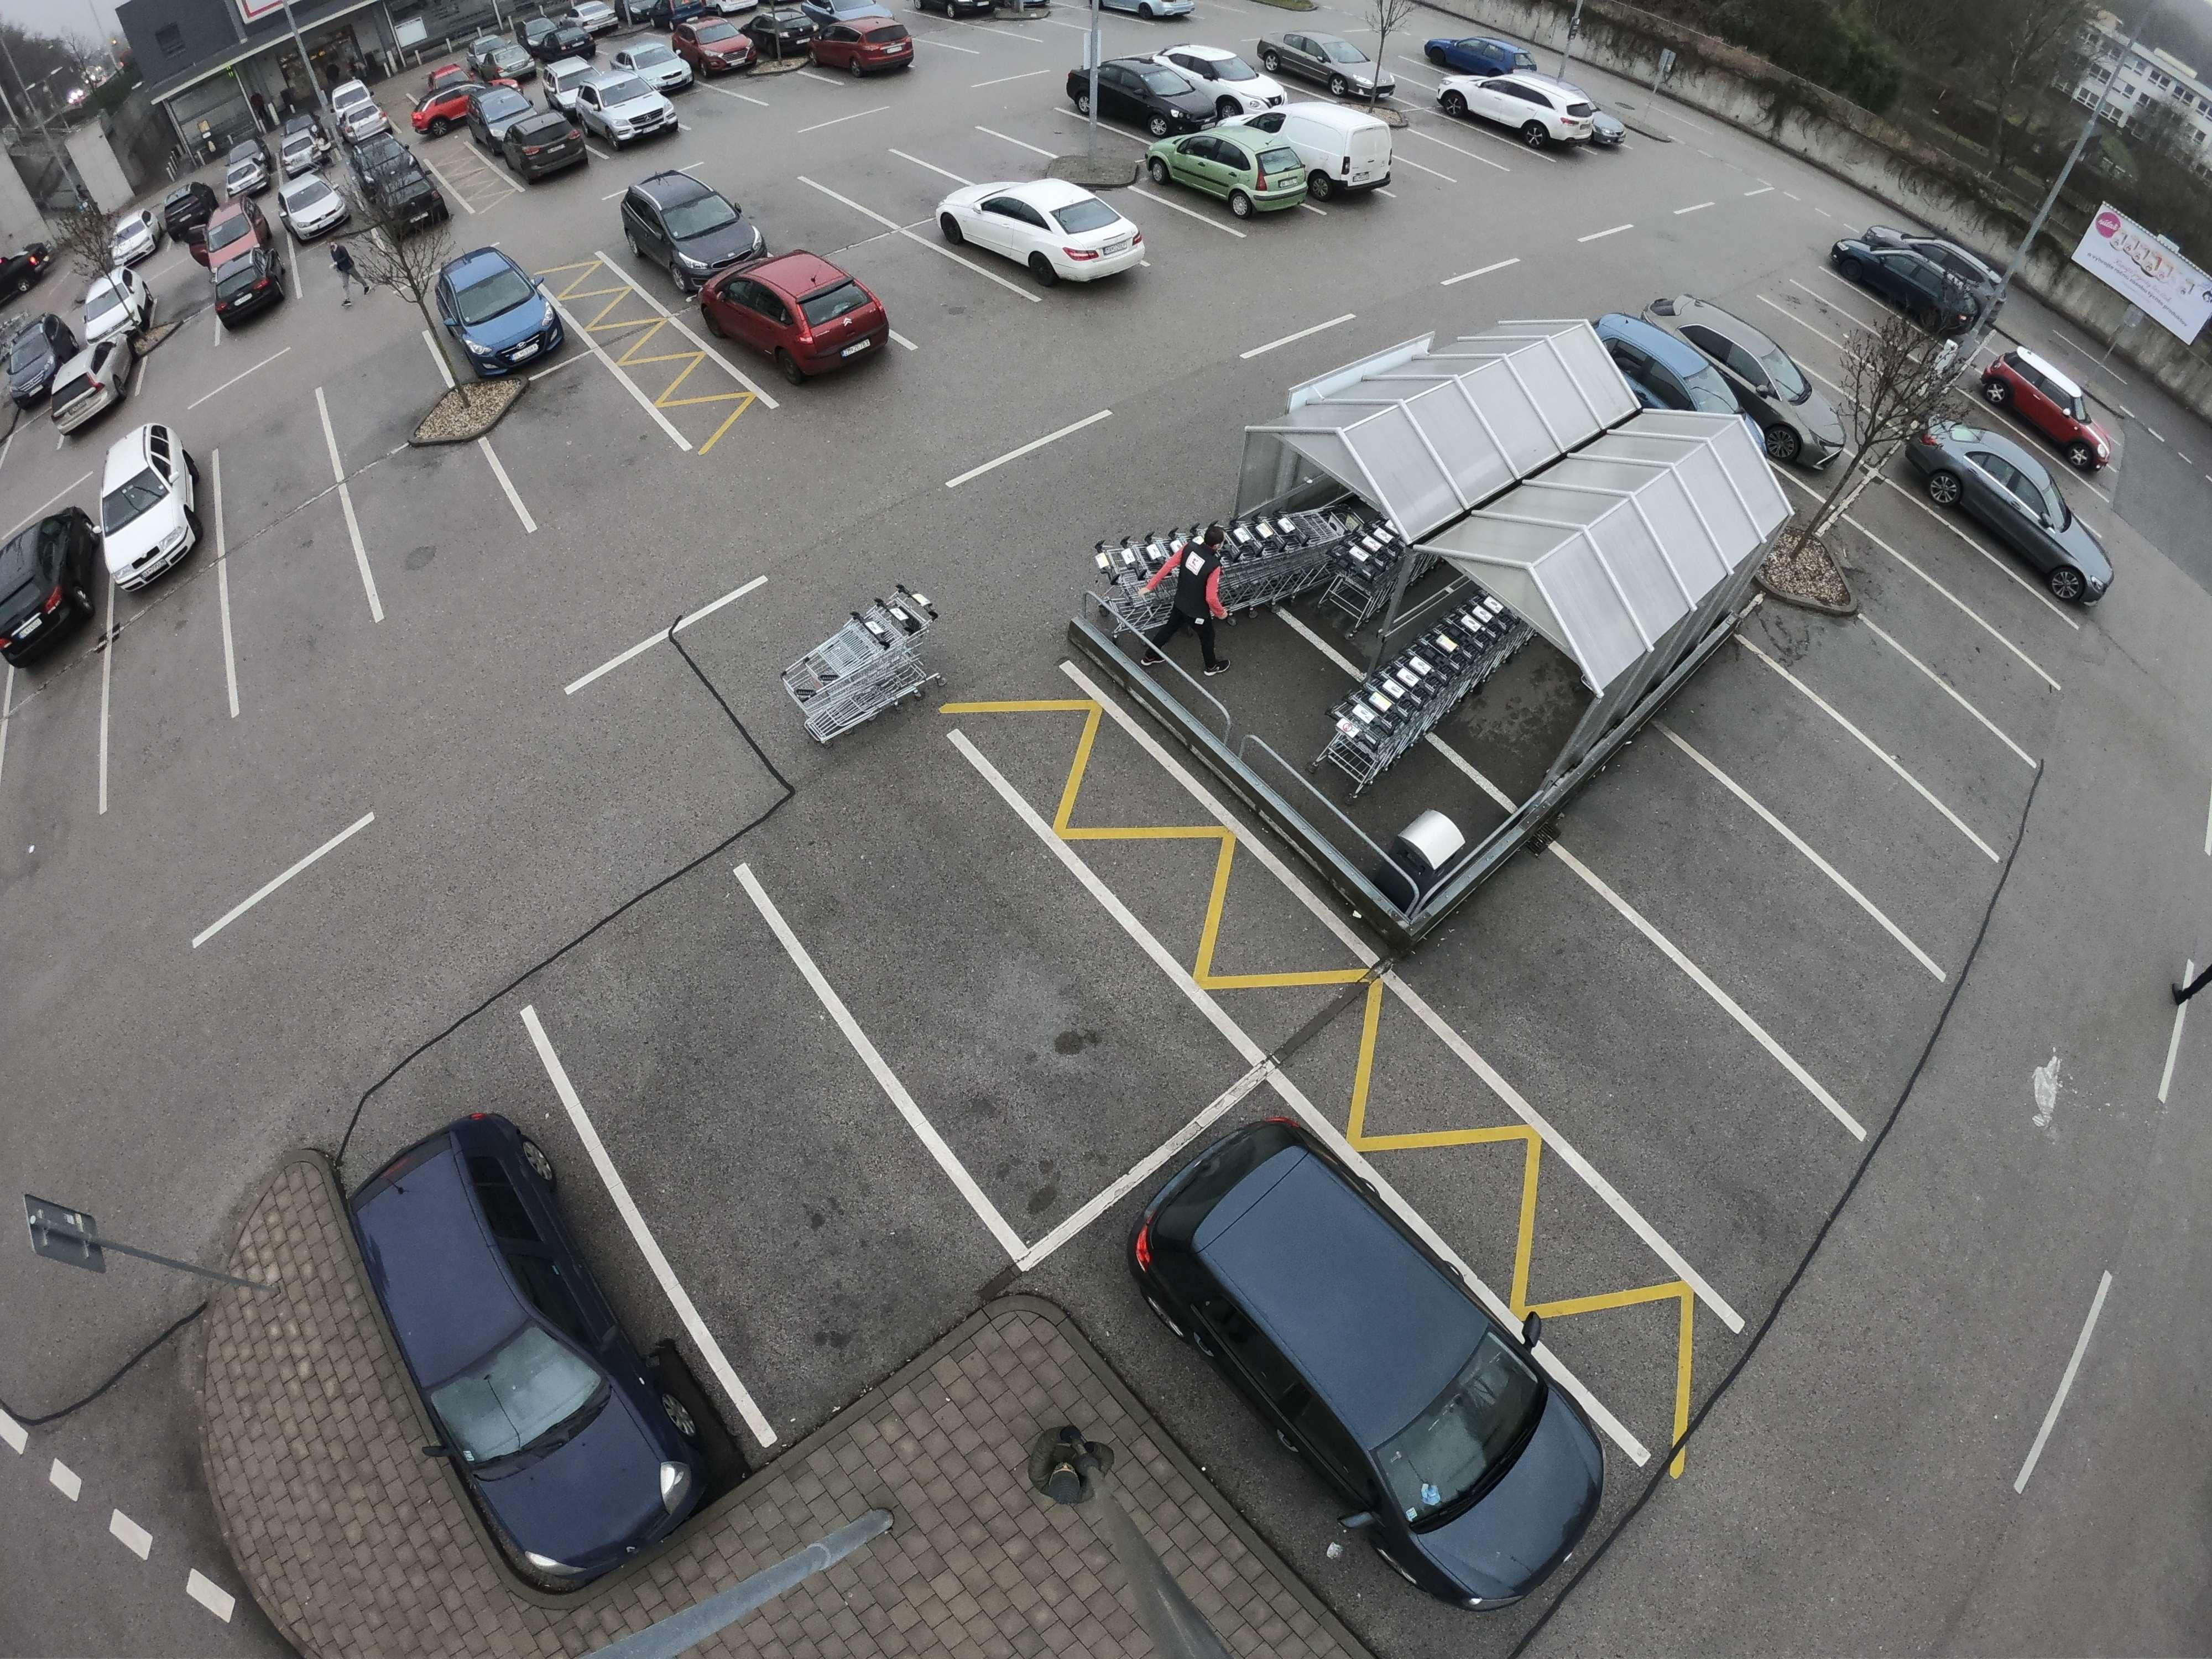empty: (1122, 1096, 1627, 1626), (345, 1072, 688, 1565), (1914, 420, 2114, 587), (1670, 314, 1853, 446), (82, 427, 223, 598), (711, 253, 900, 378), (942, 173, 1144, 288), (425, 242, 580, 376), (606, 167, 773, 275), (1444, 64, 1625, 157), (1158, 129, 1310, 218), (5, 504, 91, 657), (1832, 239, 1980, 326), (1986, 352, 2109, 455), (199, 213, 300, 321), (1085, 54, 1221, 134), (1261, 21, 1395, 98), (801, 5, 921, 80), (489, 110, 596, 193), (575, 75, 688, 148), (369, 152, 458, 234), (1172, 44, 1280, 110), (277, 174, 368, 246), (1416, 30, 1522, 82), (678, 17, 759, 80), (1106, 0, 1202, 26)
occupied: (637, 1035, 852, 1215), (864, 871, 1080, 1037), (1543, 985, 1728, 1138), (1667, 847, 1817, 962), (239, 542, 366, 652), (216, 410, 329, 509), (115, 636, 221, 739), (1787, 746, 1897, 835), (5, 695, 98, 796), (383, 476, 498, 556), (327, 350, 434, 430), (524, 399, 631, 477), (1932, 532, 2019, 610), (1106, 178, 1190, 258), (1792, 274, 1872, 343), (1902, 598, 1979, 664), (1864, 676, 1949, 735), (1761, 305, 1839, 368), (867, 251, 954, 305), (1399, 132, 1468, 185), (1440, 127, 1521, 169), (939, 139, 1021, 176), (855, 166, 928, 206), (765, 200, 831, 237)
